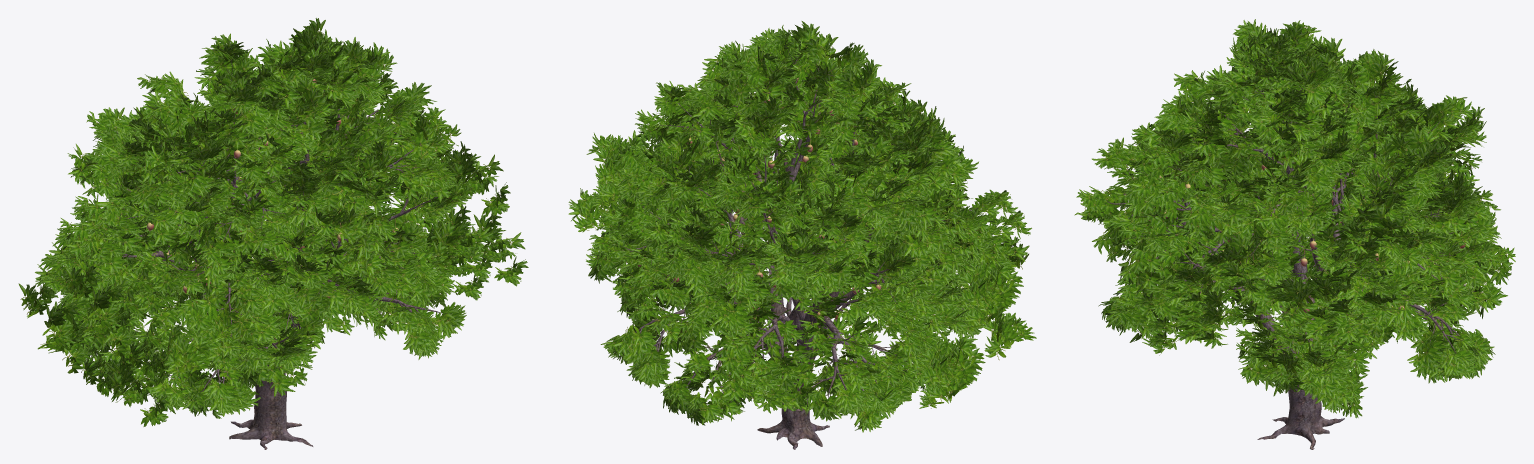
The model's file is Mango Tree_New.fbx.
The picture shows the model from 3 angles, left to right: view 1: azimuth 30°, elevation 25°; view 2: azimuth 150°, elevation 25°; view 3: azimuth 270°, elevation 25°; orthographic projection. The views are drawn at different scales.
Parts seen in each view (by area): view 1: leaves, tree; view 2: leaves, tree; view 3: leaves, tree.
Boxes of the visible parts, left/top/right/bottom form: leaves: left=18, top=18, right=528, bottom=426; tree: left=73, top=59, right=442, bottom=449; leaves: left=568, top=21, right=1036, bottom=432; tree: left=613, top=48, right=984, bottom=449; leaves: left=1074, top=19, right=1515, bottom=418; tree: left=1107, top=39, right=1480, bottom=449.
Size of the model in its own units: 754 by 686 by 676.
3 materials, 3 textured.
